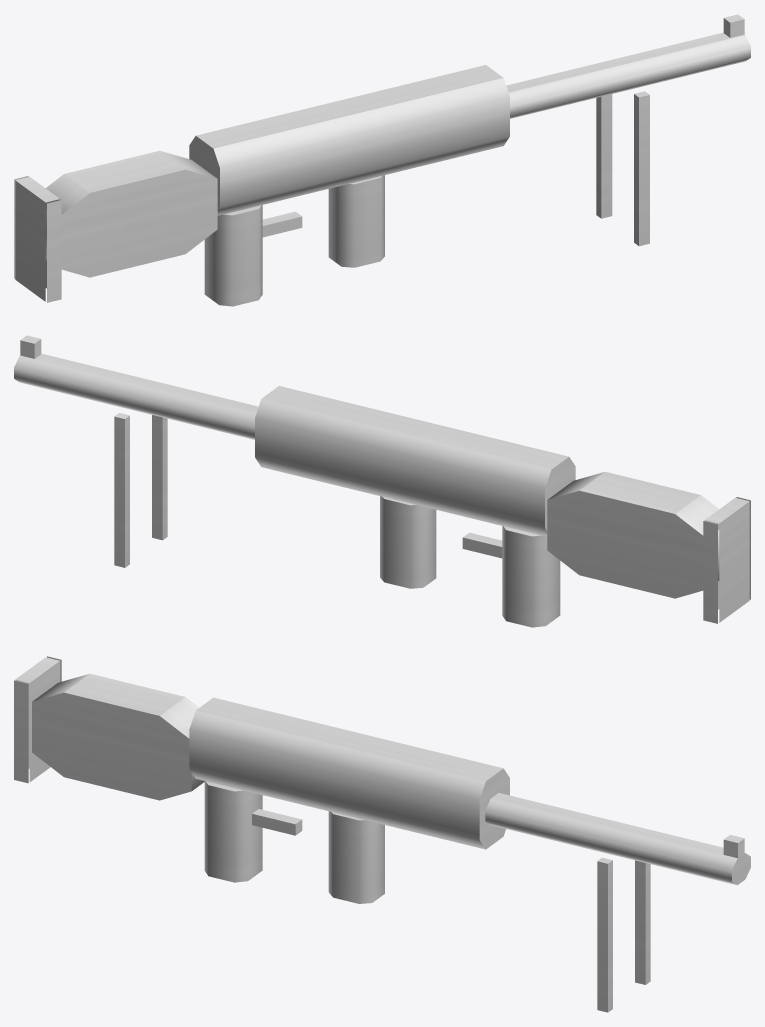
File: lmg.obj
3 views of the same model, one above another, from view 1: azimuth 30°, elevation 25°; view 2: azimuth 150°, elevation 25°; view 3: azimuth 330°, elevation 25° (orthographic).
Parts seen in each view (by area): view 1: receiver, stock_or_grip, barrel_muzzle, butt_or_trigger, grip_or_magazine, magazine_or_foregrip, scope_or_charge_panel, hardware_045, trigger_bridge; view 2: receiver, stock_or_grip, barrel_muzzle, butt_or_trigger, grip_or_magazine, magazine_or_foregrip, hardware_045, scope_or_charge_panel, trigger_bridge; view 3: receiver, stock_or_grip, barrel_muzzle, grip_or_magazine, magazine_or_foregrip, butt_or_trigger, scope_or_charge_panel, hardware_045, trigger_bridge.
Part boxes in pixels (<box>): receiver: <box>189,65,509,215</box>; stock_or_grip: <box>45,150,217,277</box>; barrel_muzzle: <box>506,32,750,118</box>; butt_or_trigger: <box>14,176,61,302</box>; grip_or_magazine: <box>204,205,262,306</box>; magazine_or_foregrip: <box>328,175,384,267</box>; scope_or_charge_panel: <box>634,91,649,246</box>; hardware_045: <box>596,94,612,218</box>; trigger_bridge: <box>262,211,302,237</box>; receiver: <box>255,386,575,536</box>; stock_or_grip: <box>547,471,719,598</box>; barrel_muzzle: <box>14,353,258,439</box>; butt_or_trigger: <box>703,497,750,623</box>; grip_or_magazine: <box>502,526,560,627</box>; magazine_or_foregrip: <box>380,496,436,588</box>; hardware_045: <box>114,413,129,567</box>; scope_or_charge_panel: <box>152,415,167,540</box>; trigger_bridge: <box>462,532,502,558</box>; receiver: <box>189,697,509,849</box>; stock_or_grip: <box>32,673,204,800</box>; barrel_muzzle: <box>485,793,750,885</box>; grip_or_magazine: <box>204,781,262,882</box>; magazine_or_foregrip: <box>328,811,384,903</box>; butt_or_trigger: <box>14,656,61,783</box>; scope_or_charge_panel: <box>597,857,612,1012</box>; hardware_045: <box>635,860,650,984</box>; trigger_bridge: <box>252,809,302,835</box>.
Bounding box in the file's own units: 0.98 × 0.25 × 0.102.
